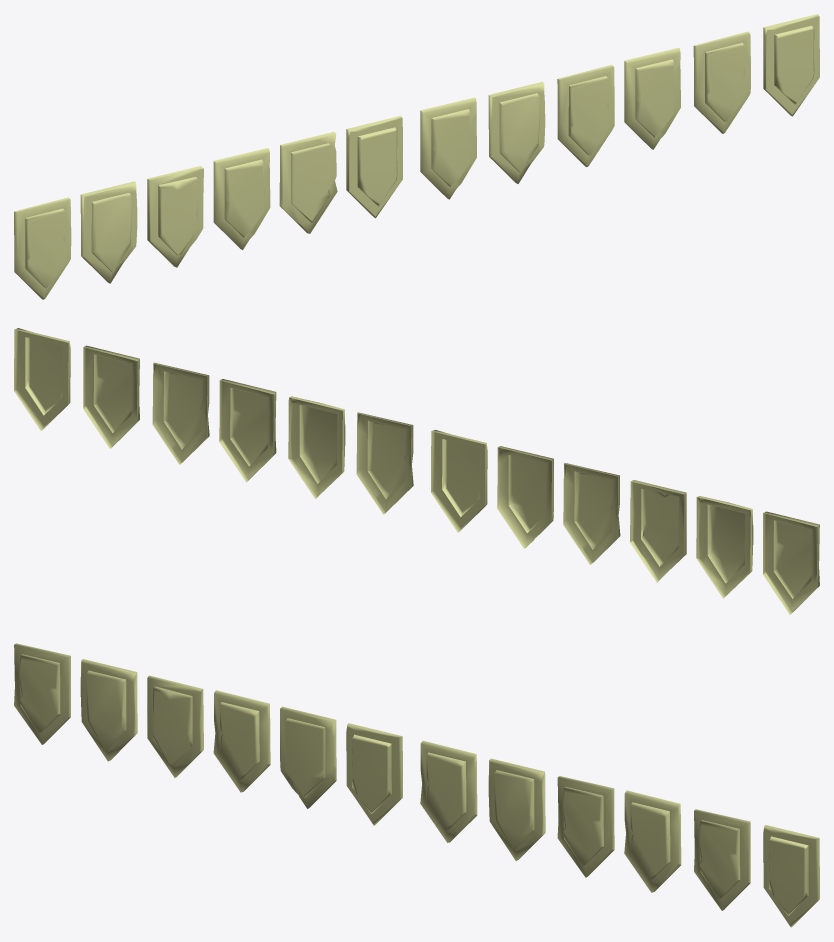
File: Ornament_shield_1b.fbx
3 renders of one model, top to bottom at view 1: azimuth 30°, elevation 25°; view 2: azimuth 150°, elevation 25°; view 3: azimuth 330°, elevation 25°, orthographic.
Parts seen in each view (by area): view 1: Ornament_shield_1b_LOD0; view 2: Ornament_shield_1b_LOD0; view 3: Ornament_shield_1b_LOD0.
Part boxes in pixels (left/top/right/bottom): Ornament_shield_1b_LOD0: left=14, top=14, right=819, bottom=299; Ornament_shield_1b_LOD0: left=14, top=328, right=819, bottom=614; Ornament_shield_1b_LOD0: left=14, top=643, right=819, bottom=927.
Size of what is drawn, in the model's own units: 350 by 40.04 by 4.53.
